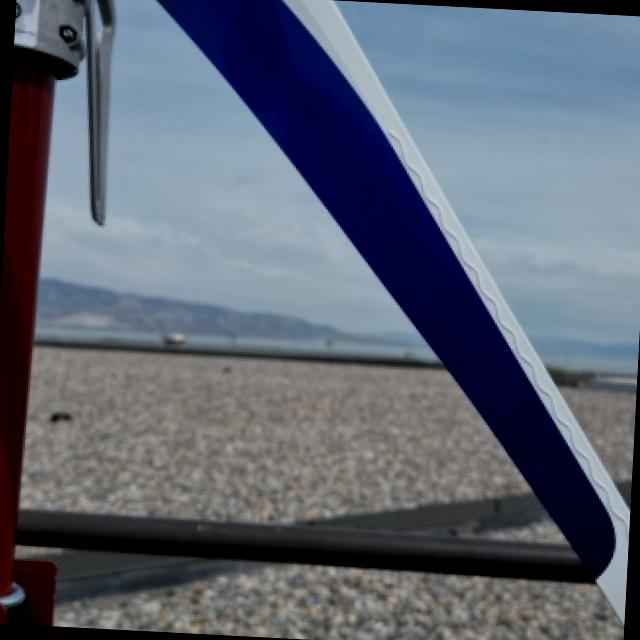healthy: (47, 0, 427, 349)
